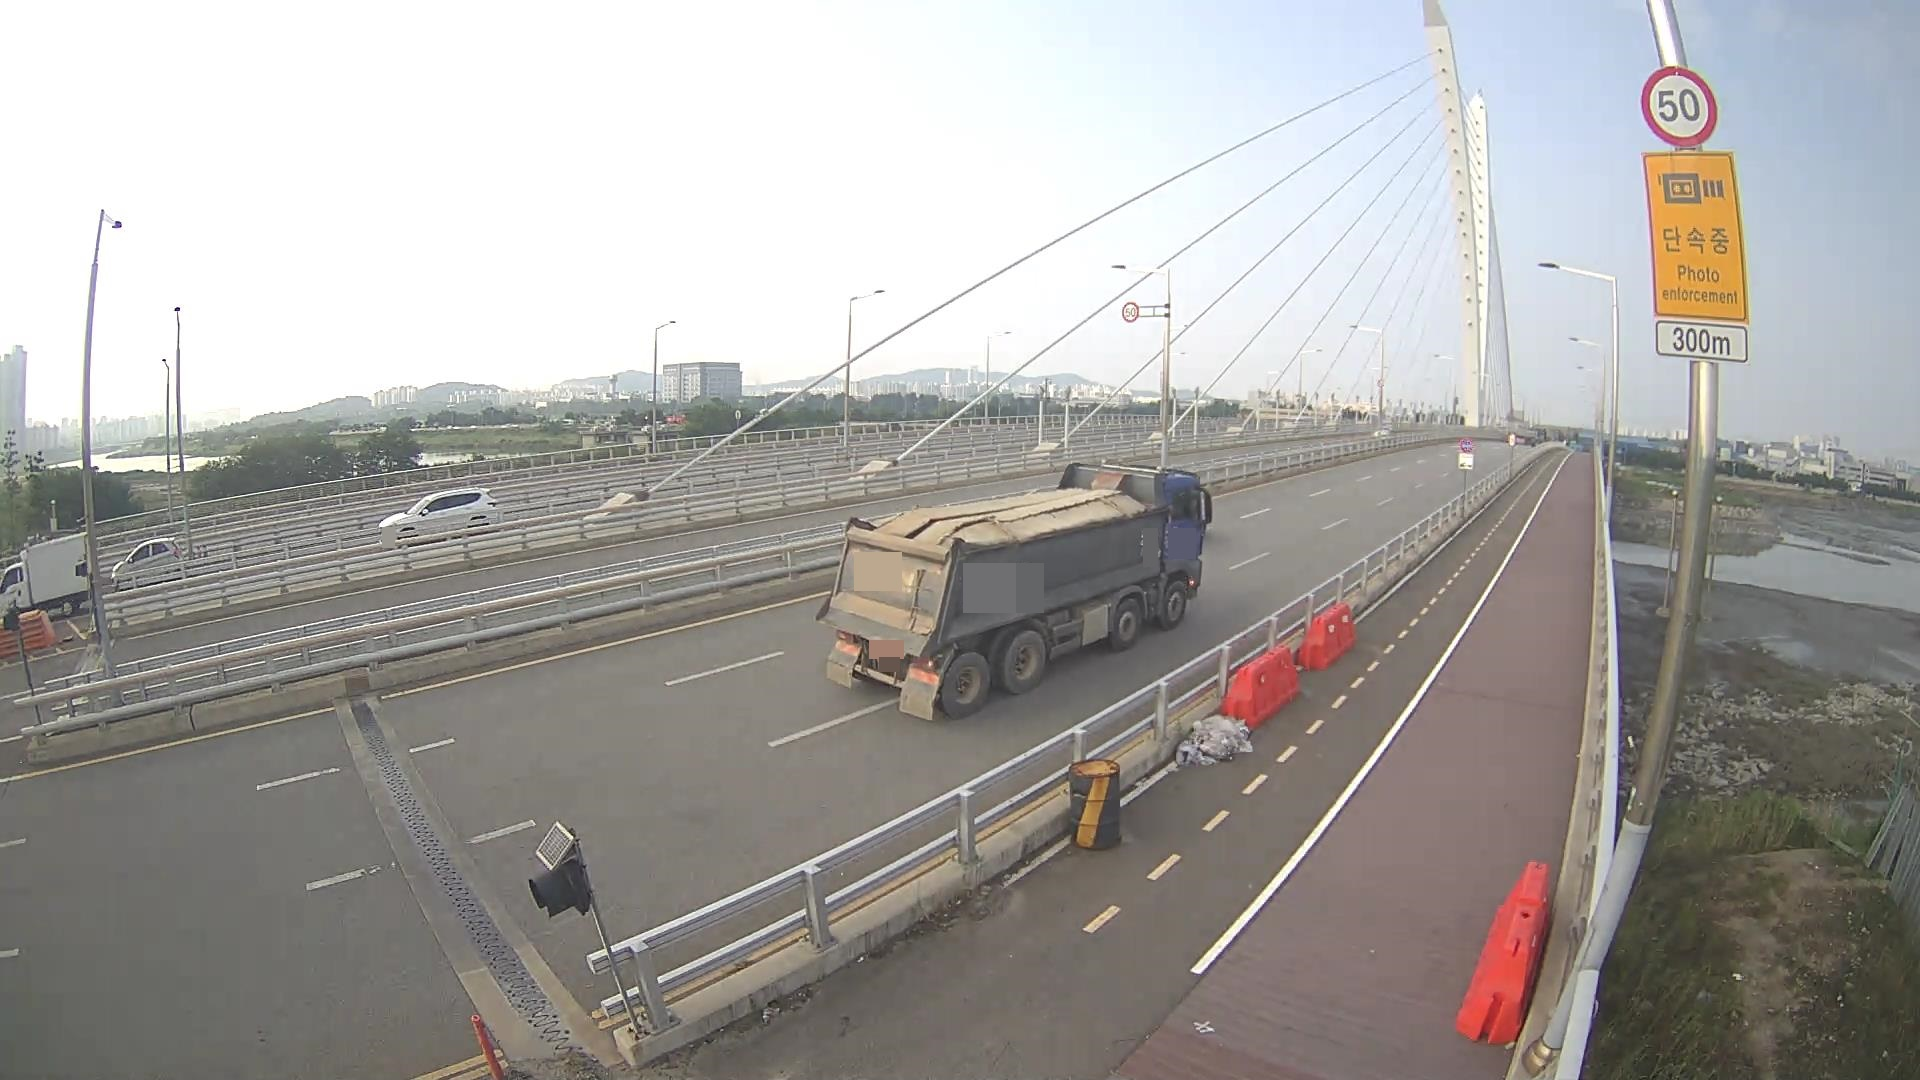정상차량: (816, 462, 1212, 721)
